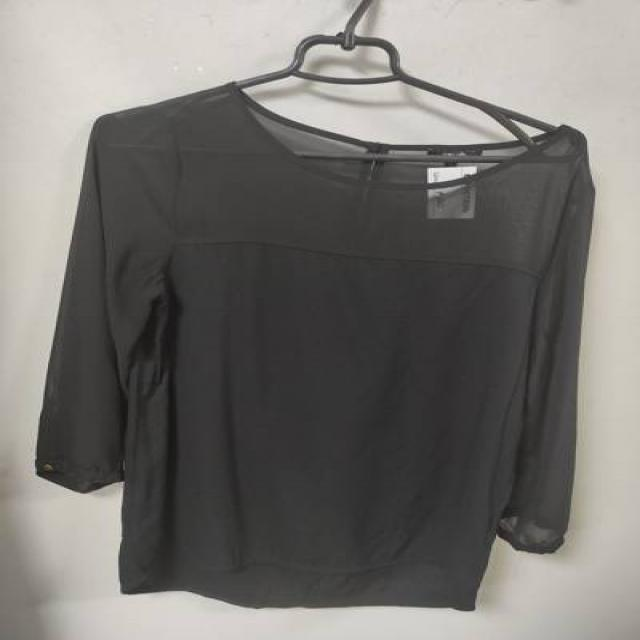Clothes -Biodegradable-: (33, 78, 588, 608)
